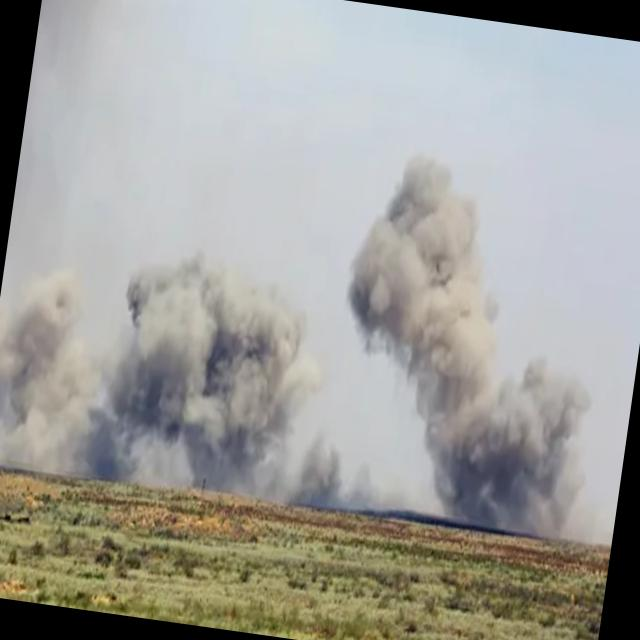Smoke: (320, 155, 625, 540), (115, 254, 366, 513), (0, 275, 139, 496)
